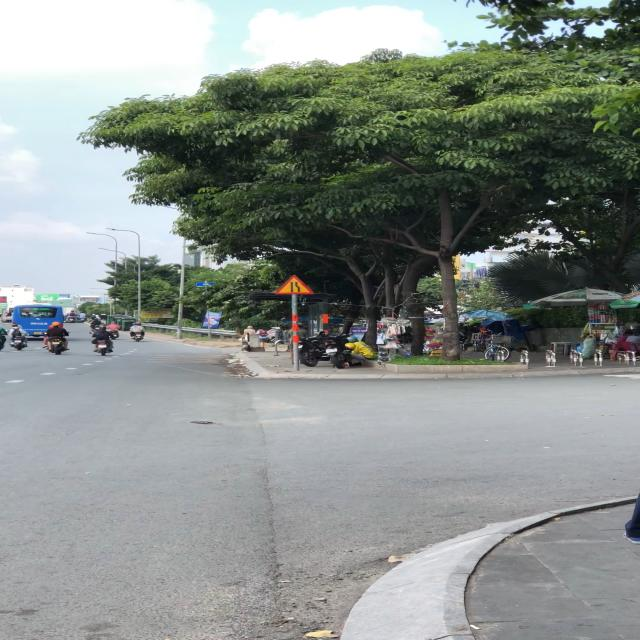Bien bao duong bi thu hep: (274, 273, 316, 295)
